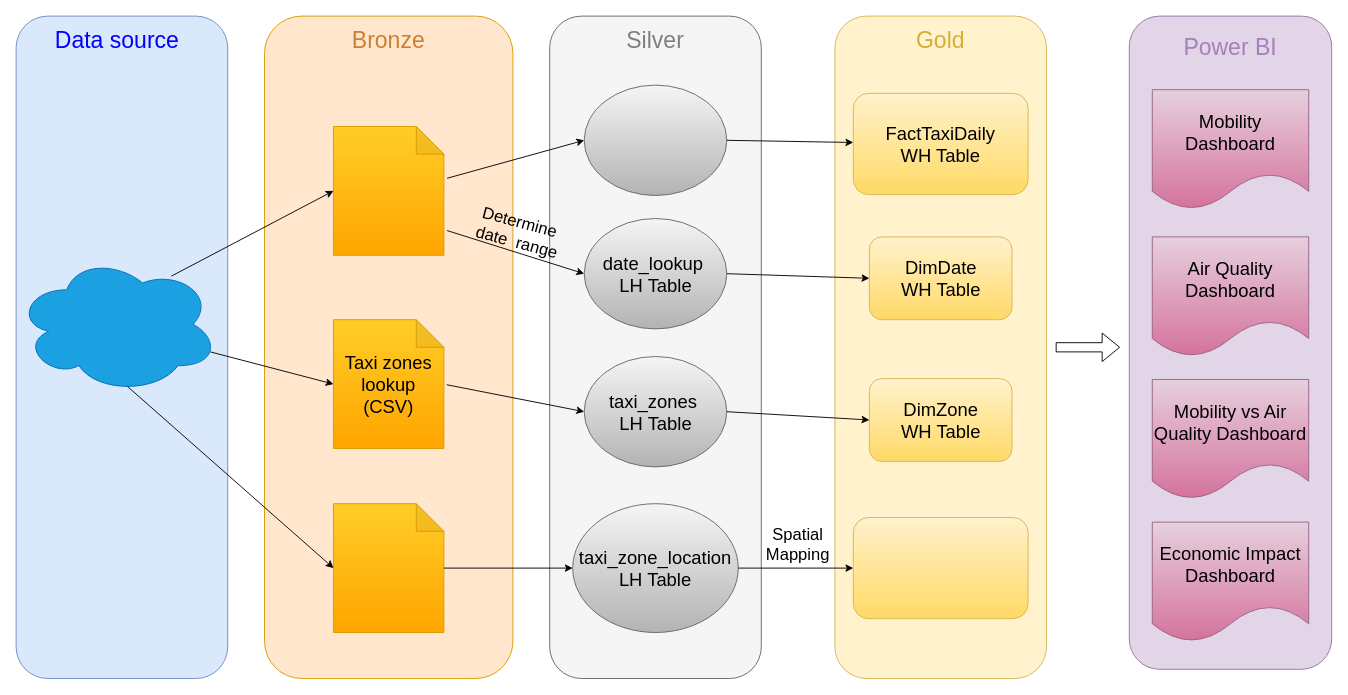
The diagram is 1348 pixels wide and 695 high, and some of its shapes have lost their labels. The shapes that lost their labels are listed below. From the top down, each one's centre as x and y in pixels, then its label:
At (x=655, y=140): "taxi_trips LH T able".
At (x=388, y=190): "Taxi trip data (Parquet)".
At (x=116, y=323): "NYC TLC WEB API".
At (x=388, y=567): "Taxi zones location (GeoJson)".
At (x=940, y=568): "FactAirQualityDaily WH Table".
